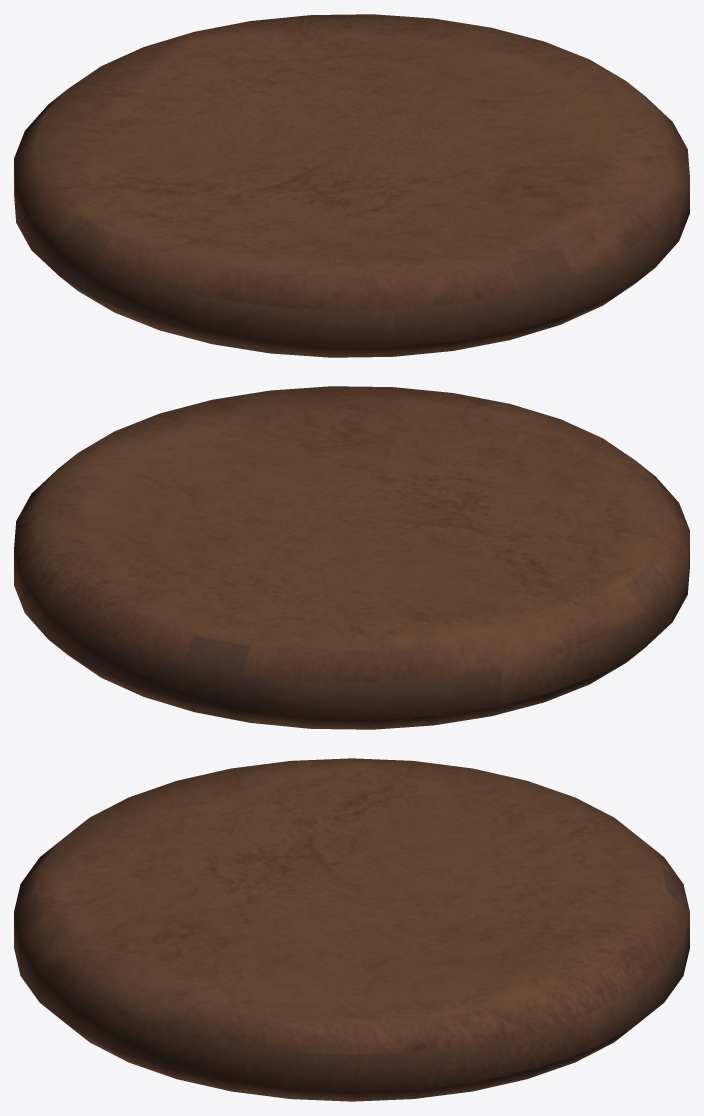
File: meat.gltf
The picture shows the model from 3 angles, top to bottom: view 1: azimuth 30°, elevation 25°; view 2: azimuth 150°, elevation 25°; view 3: azimuth 270°, elevation 25°; orthographic projection.
Parts seen in each view (by area): view 1: Cylinder.001; view 2: Cylinder.001; view 3: Cylinder.001.
Part boxes in pixels (bbox=[...]): Cylinder.001: bbox=[14, 14, 689, 357]; Cylinder.001: bbox=[14, 386, 689, 729]; Cylinder.001: bbox=[14, 758, 689, 1101].
Bounding box in the file's own units: 2 × 0.25 × 2.
1 material, 1 textured.
